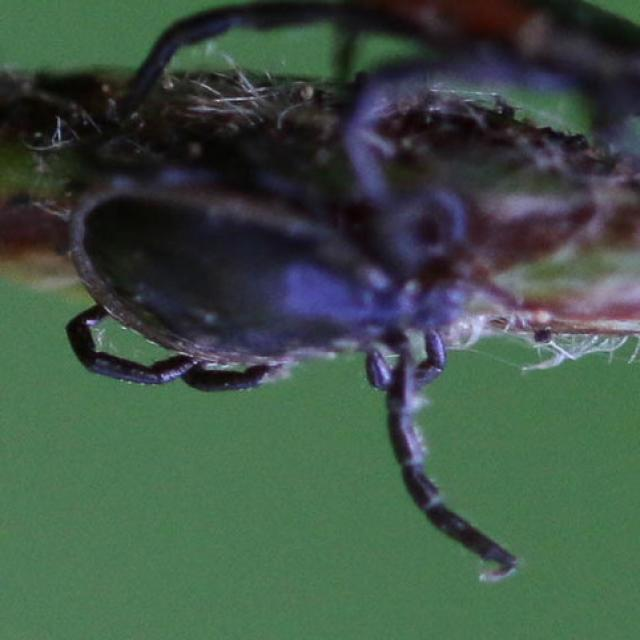Ixodes Ricinus-M: (65, 20, 640, 582)
